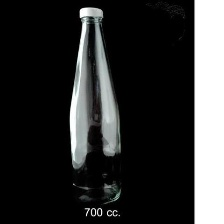bottle: (59, 3, 126, 212)
